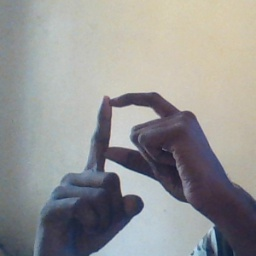D: (64, 89, 189, 201)
